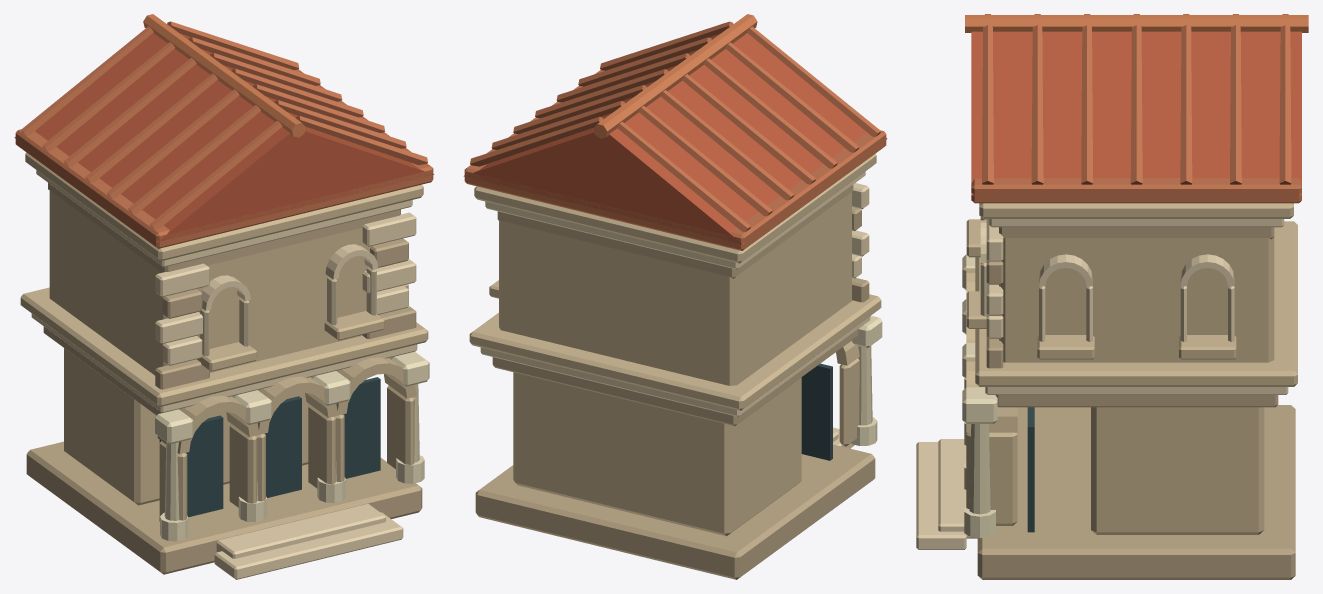
The model's file is city-house.glb.
The picture shows the model from 3 angles, left to right: view 1: azimuth 30°, elevation 25°; view 2: azimuth 150°, elevation 25°; view 3: azimuth 270°, elevation 25°; orthographic projection. The views are drawn at different scales.
Visible parts, largest first — view 1: Cube; view 2: Cube; view 3: Cube.
Boxes of the visible parts, left/top/right/bottom form: Cube: left=14, top=14, right=434, bottom=579; Cube: left=463, top=14, right=887, bottom=579; Cube: left=916, top=14, right=1308, bottom=579.
Size of the model in its own units: 0.476 by 0.6888 by 0.4984.
